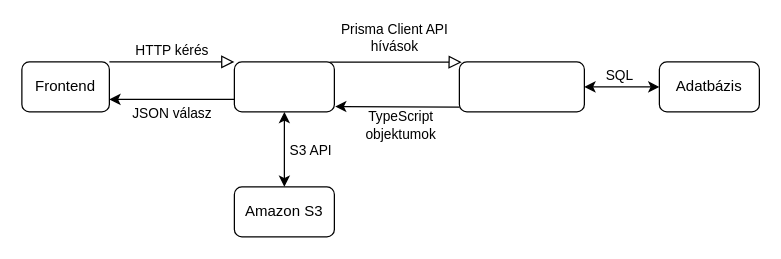
Some shapes in this 781 by 259 pixel diagram are drawn without their labels. Here are the shapes that lost their labels. From the top down, the box of each, then its label:
(233, 61, 334, 112): Backend
(458, 61, 584, 112): Prisma Client
